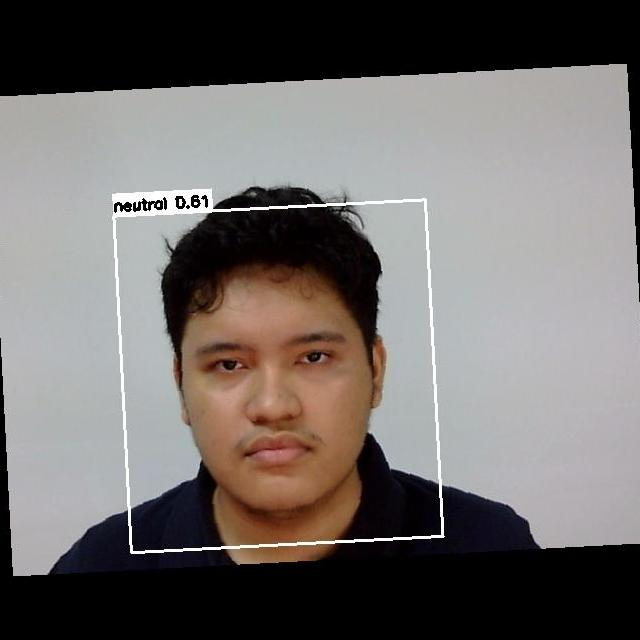Natural: (190, 324, 372, 479)
